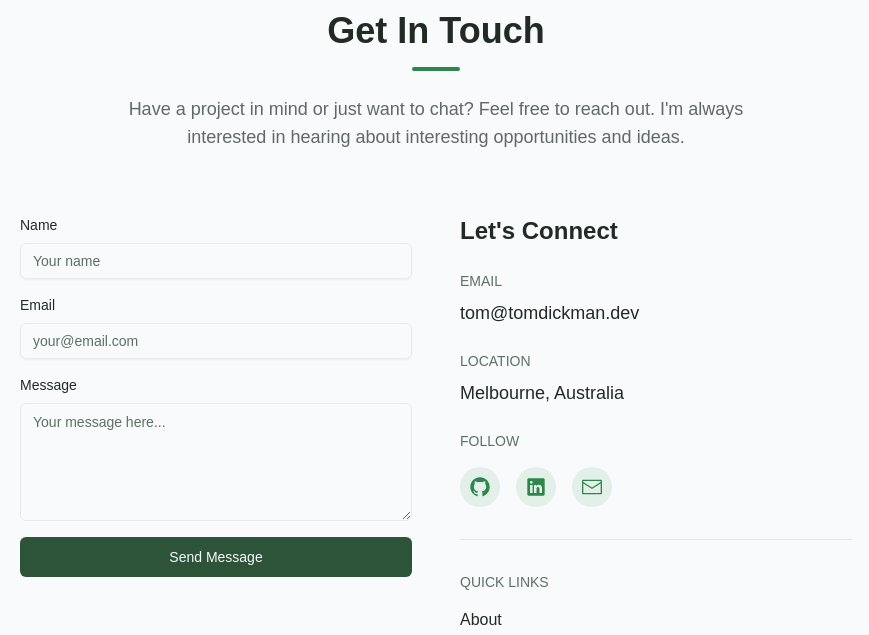
Contact › shows the fallback message after a network failure
Type "Alice" into the field labelled "Name" at x=216, y=261, box left=20, top=243, right=412, bottom=279
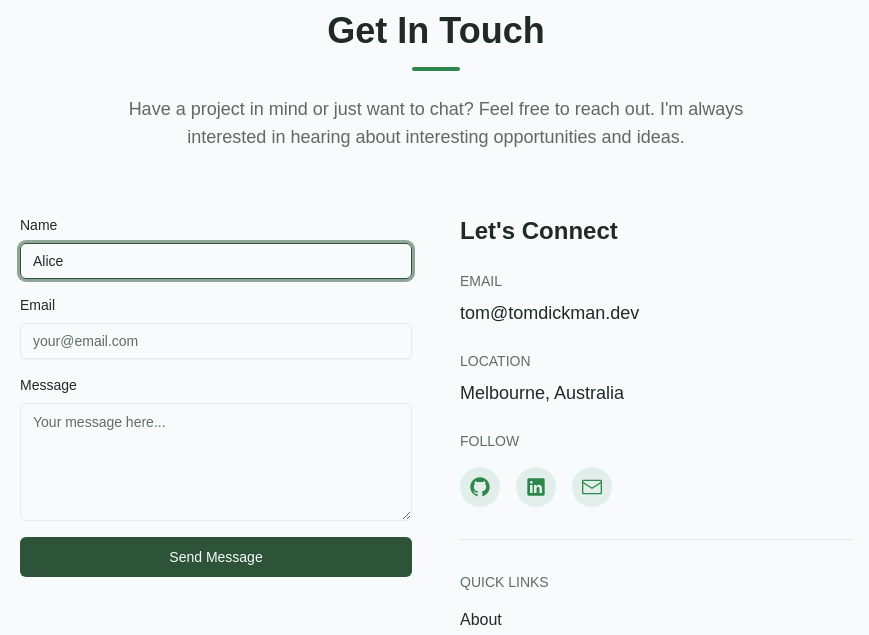
Type "alice@example.com" into the field labelled "Email" at x=216, y=341, box left=20, top=323, right=412, bottom=359
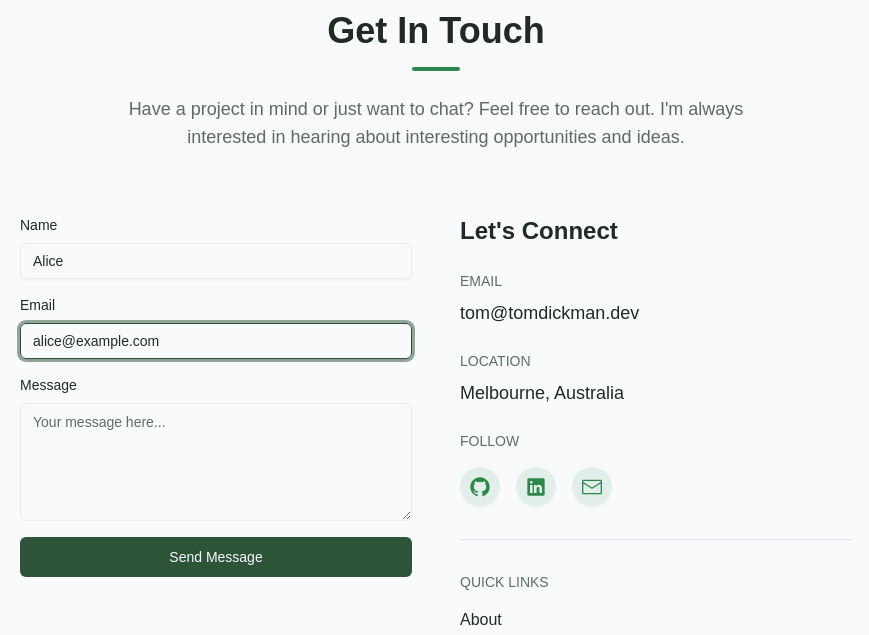
Type "Hello there" into the text box labelled "Message" at x=216, y=462, box left=20, top=403, right=412, bottom=521
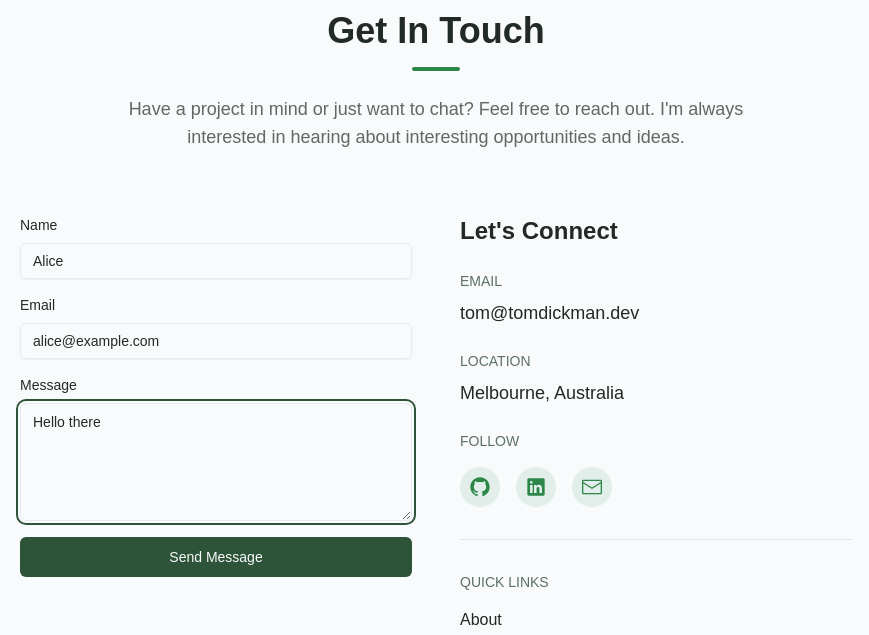
Click the button "Send Message" at x=216, y=557, box left=20, top=537, right=412, bottom=577
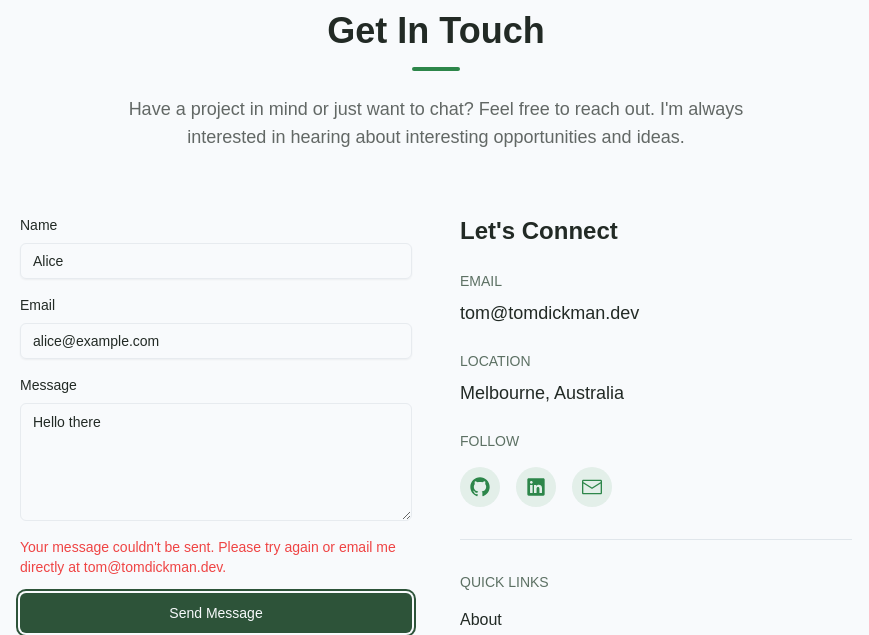
Expected: the message shows "email me directly", left=20, top=539, right=396, bottom=575
